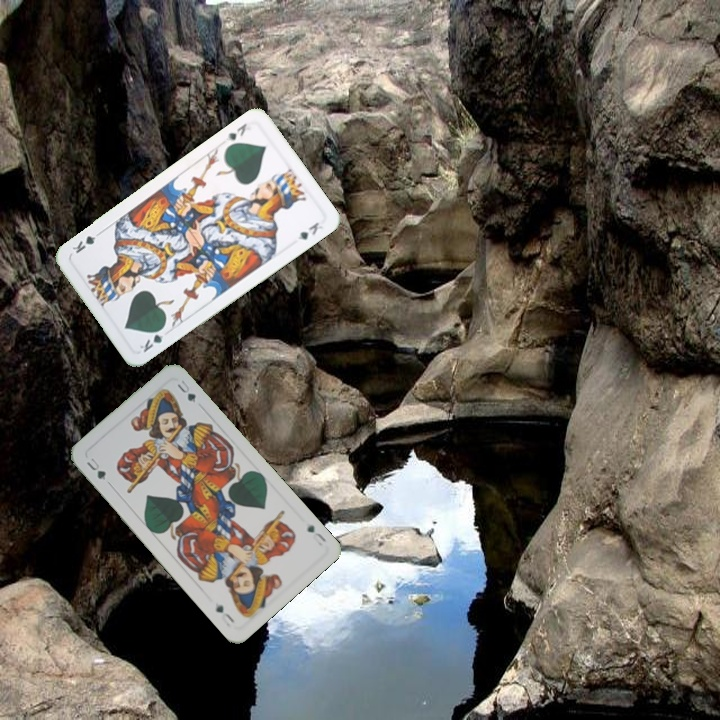GK: (135, 322, 168, 355), (222, 119, 250, 143)
GU: (82, 453, 108, 483), (303, 521, 329, 545)
